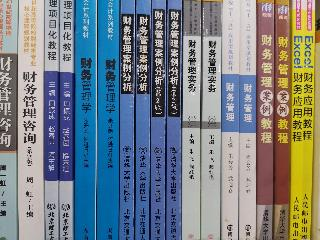book-spine: (16, 0, 45, 238), (72, 1, 98, 240), (96, 2, 121, 238), (200, 0, 224, 237), (181, 2, 202, 240), (220, 2, 241, 240), (148, 0, 168, 240), (0, 1, 20, 240), (132, 1, 152, 239), (255, 2, 275, 239), (239, 1, 257, 239), (273, 1, 291, 239), (118, 2, 135, 240), (298, 0, 315, 238), (44, 2, 60, 239), (58, 3, 74, 239), (166, 3, 182, 238), (289, 2, 303, 239)
